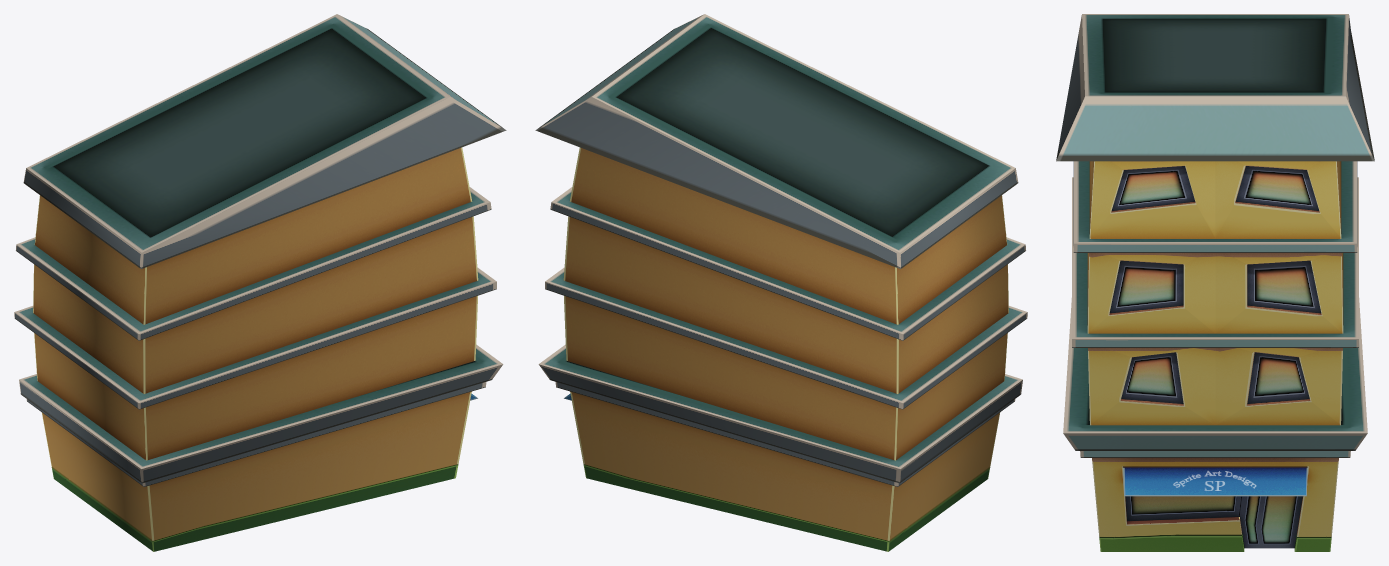
File: Scene_Building_Y_L2_02.FBX
3 renders of one model, left to right at view 1: azimuth 30°, elevation 25°; view 2: azimuth 150°, elevation 25°; view 3: azimuth 270°, elevation 25°, orthographic. The views are drawn at different scales.
Parts seen in each view (by area): view 1: Scene_Building_Y_L2_02; view 2: Scene_Building_Y_L2_02; view 3: Scene_Building_Y_L2_02.
Part boxes in pixels (x1,y1,x2,y2): Scene_Building_Y_L2_02: (14, 14, 506, 551); Scene_Building_Y_L2_02: (535, 14, 1027, 551); Scene_Building_Y_L2_02: (1056, 14, 1374, 551).
Bounding box in the file's own units: 1368 × 1406 × 905.
1 material, 1 textured.
